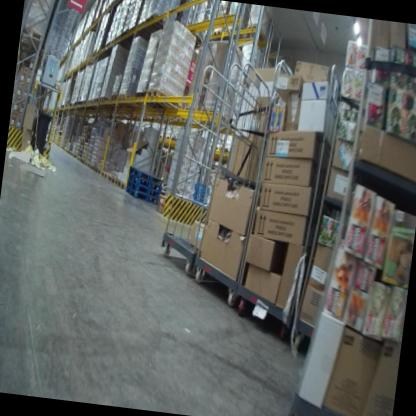pallet: (145, 86, 183, 111), (127, 165, 164, 186), (126, 172, 162, 191), (126, 179, 161, 198), (123, 185, 158, 204), (20, 23, 45, 47), (246, 22, 270, 46), (134, 90, 160, 112), (146, 9, 169, 32), (117, 91, 141, 110), (109, 92, 127, 109), (223, 25, 239, 42), (211, 26, 226, 41), (99, 96, 114, 109), (106, 173, 118, 185), (116, 179, 127, 191), (95, 163, 103, 175), (79, 132, 90, 140), (99, 170, 108, 179), (76, 155, 84, 164), (89, 94, 96, 104), (80, 127, 90, 134), (81, 123, 90, 130), (85, 96, 90, 107), (89, 163, 95, 170), (80, 136, 88, 141), (94, 97, 100, 103), (85, 160, 90, 167), (79, 140, 84, 145), (77, 148, 82, 153), (78, 145, 83, 149), (77, 153, 82, 157)
